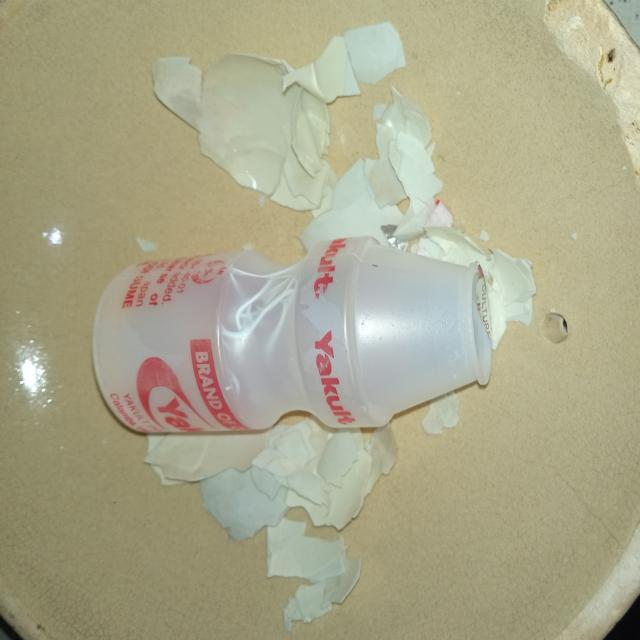egg shell: (172, 34, 307, 202), (252, 509, 368, 636), (284, 427, 398, 531), (138, 433, 276, 487), (196, 469, 289, 544), (382, 130, 444, 213), (370, 86, 439, 156), (342, 20, 408, 84), (492, 240, 538, 329), (316, 428, 366, 488), (420, 391, 461, 436)
